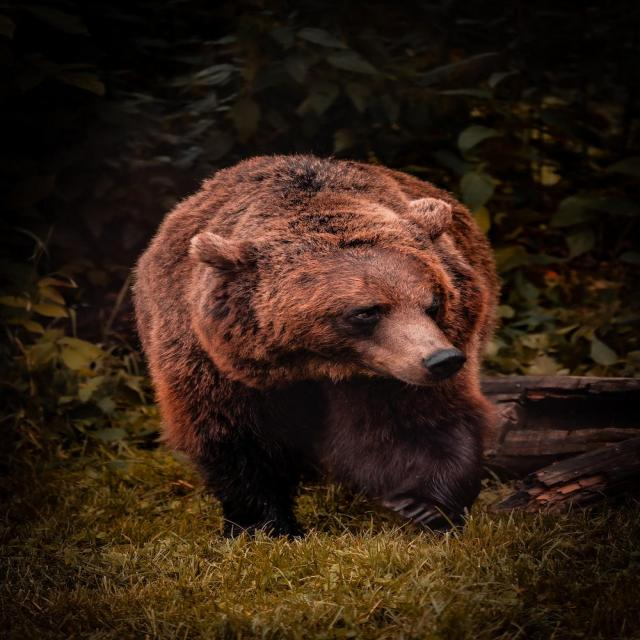Bear: (132, 155, 506, 544)
